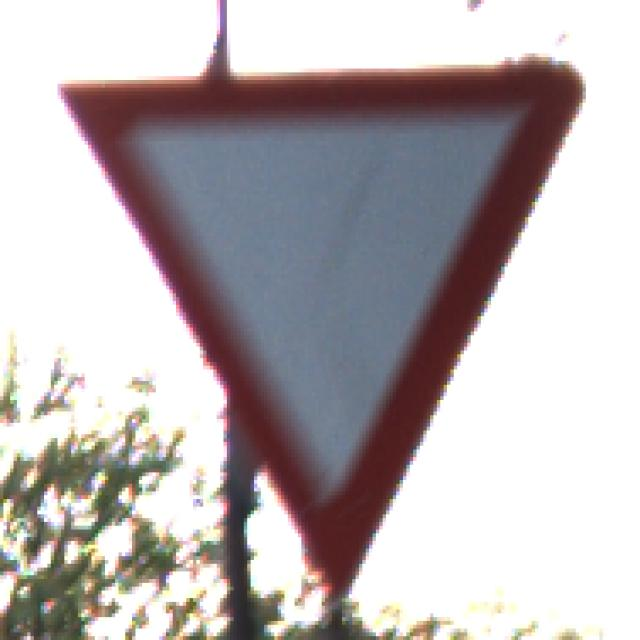Give Way: (55, 54, 587, 588)
